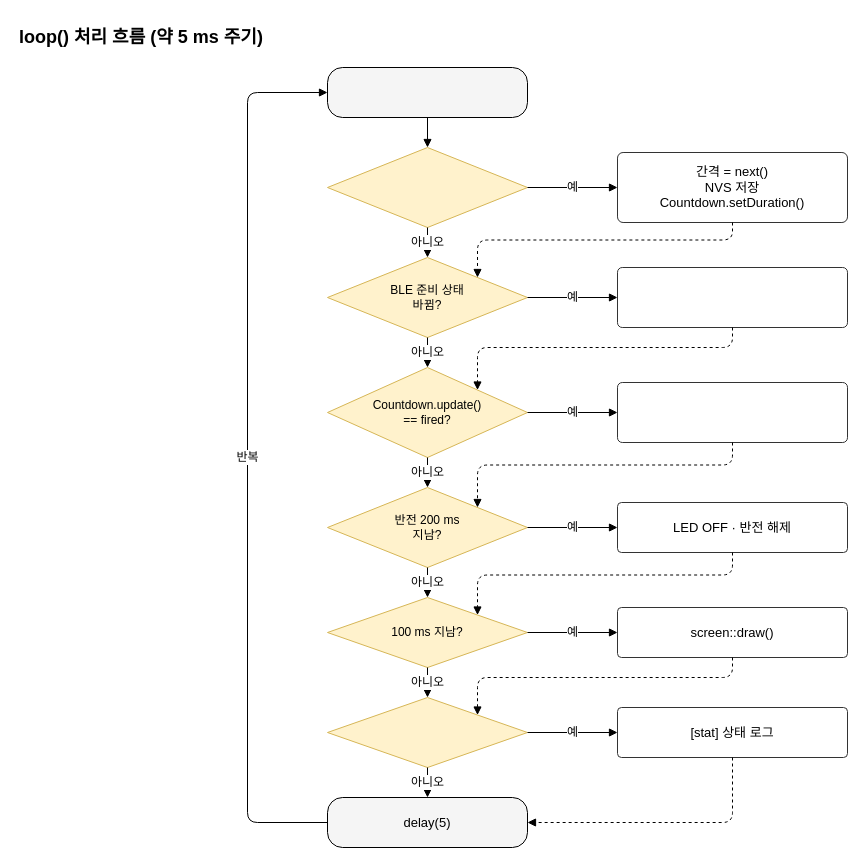
Image size: 865x865. Some labels were removed from this diagram. Here are the shapes that lost their labels. From the top down, the centre of each, then its label:
[427,92]: loop() 시작 now = millis()
[427,187]: 버튼 눌림? (Debouncer)
[732,297]: Countdown.setConnected() [ble] 로그
[732,412]: tapLeftShift() LED ON · 반전 시작
[427,732]: 10 s 지남?
